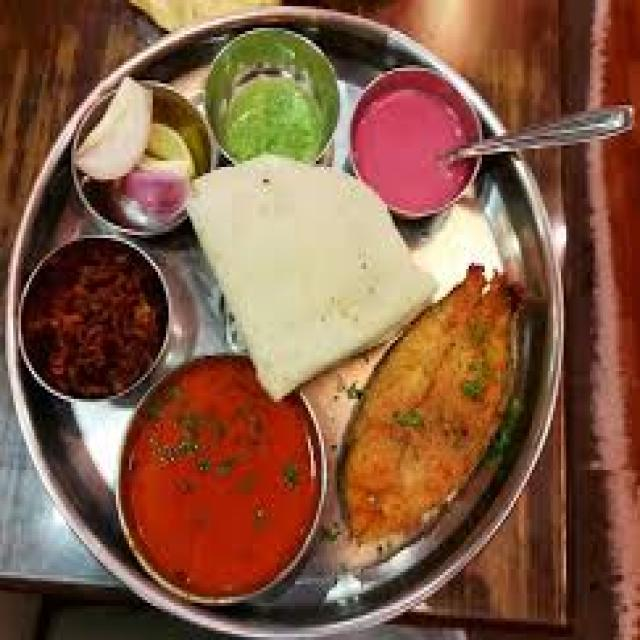DOSA: (321, 263, 519, 566)
